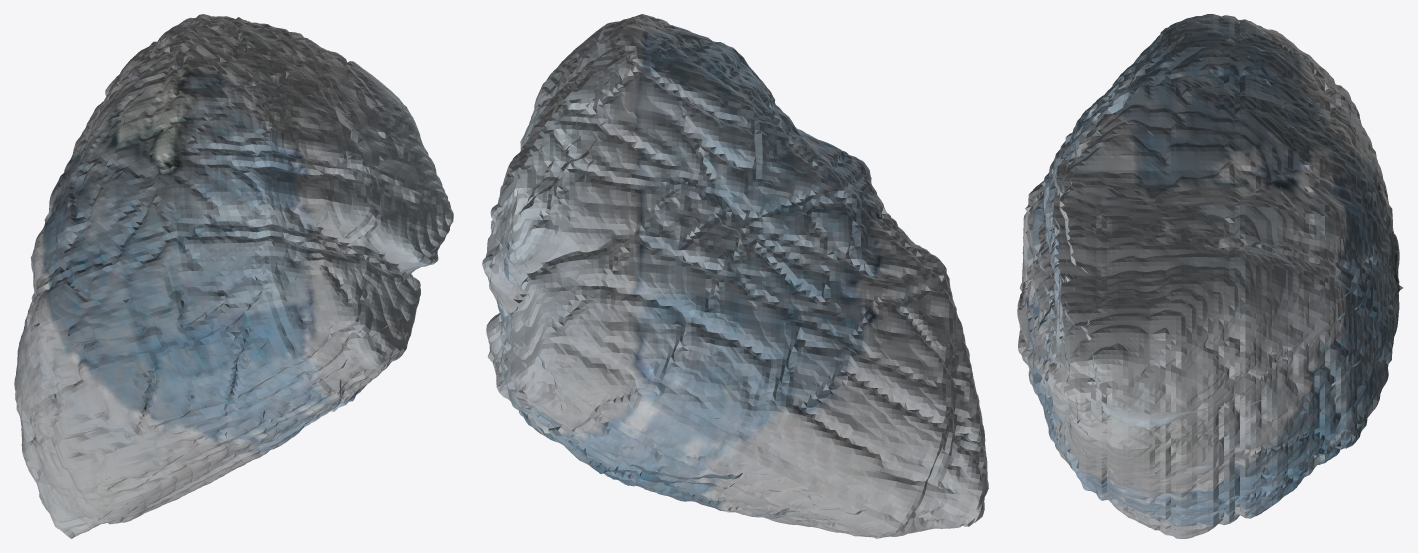
Rendered from northwind.glb.
The picture shows the model from 3 angles, left to right: view 1: azimuth 30°, elevation 25°; view 2: azimuth 150°, elevation 25°; view 3: azimuth 270°, elevation 25°; orthographic projection. The views are drawn at different scales.
Parts seen in each view (by area): view 1: world; view 2: world; view 3: world.
Boxes of the visible parts, x1,y1,x2,y2 form: world: (14, 14, 453, 538); world: (482, 14, 988, 538); world: (1017, 14, 1403, 538).
Bounding box in the file's own units: 0.9635 × 0.9772 × 0.6618.
